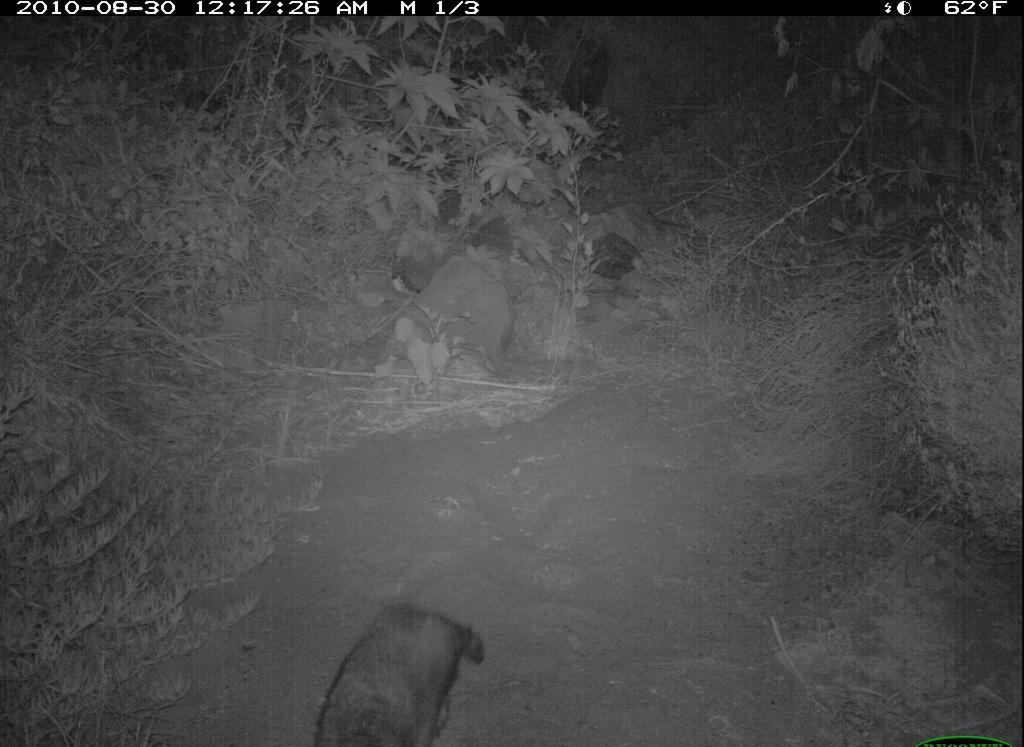raccoon: (299, 597, 501, 747)
